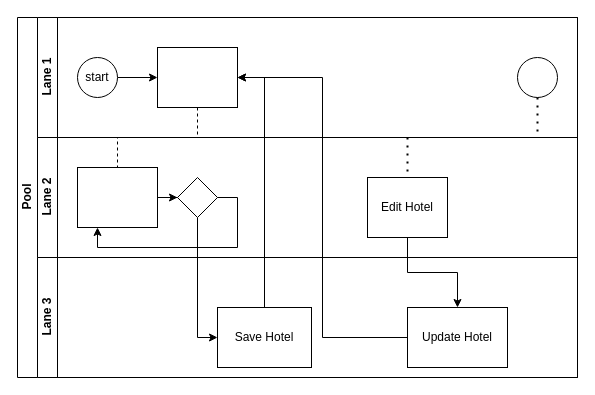
Image size: 595x395. Some labels were removed from this diagram. Here are the shapes that lost their labels. From the top down, the centre of each, then its label:
At pixel 197 77: "List Hotels".
At pixel 537 77: "end".
At pixel 117 197: "Create Hotel".
At pixel 197 197: "Exist".
